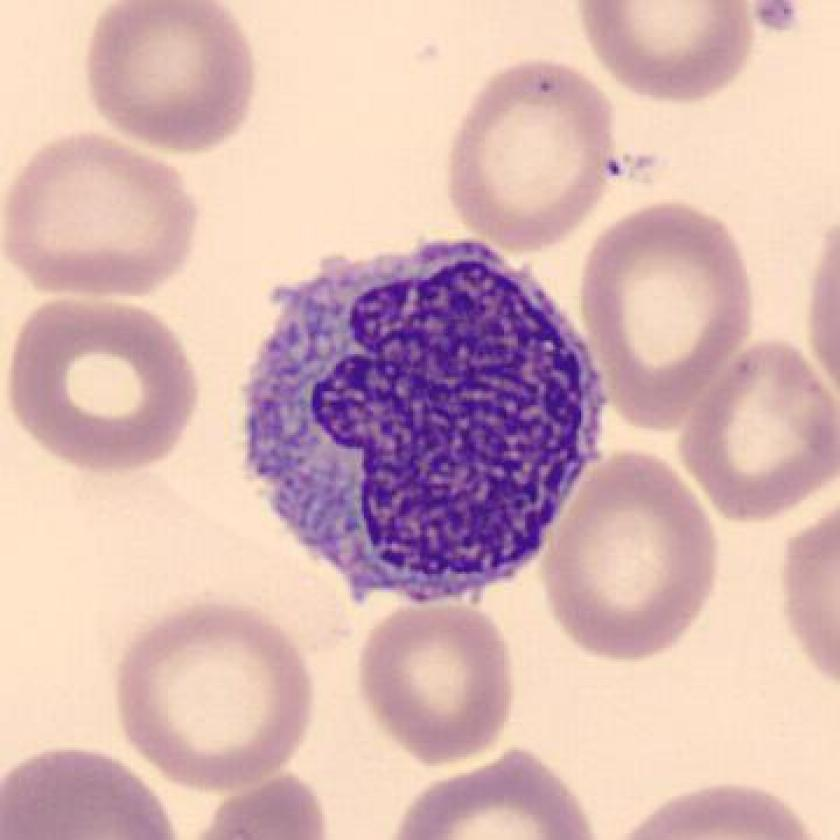monocyte: (227, 214, 622, 628)
